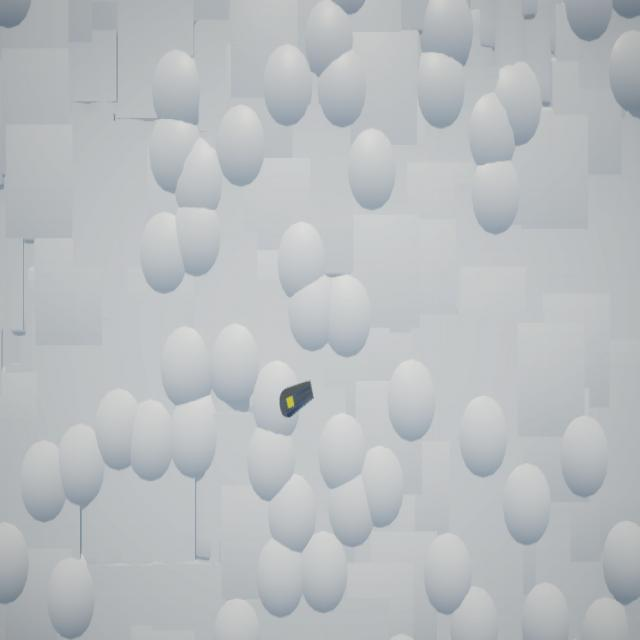handle_folk: (280, 382, 315, 418)
